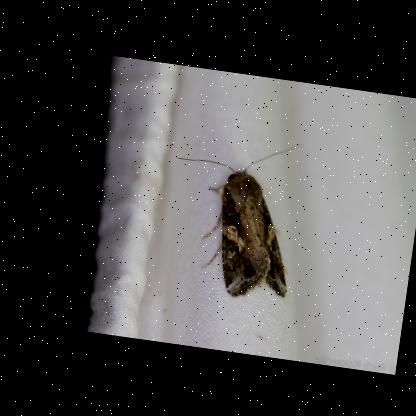Fall Armyworm Moth: (155, 122, 310, 306)
